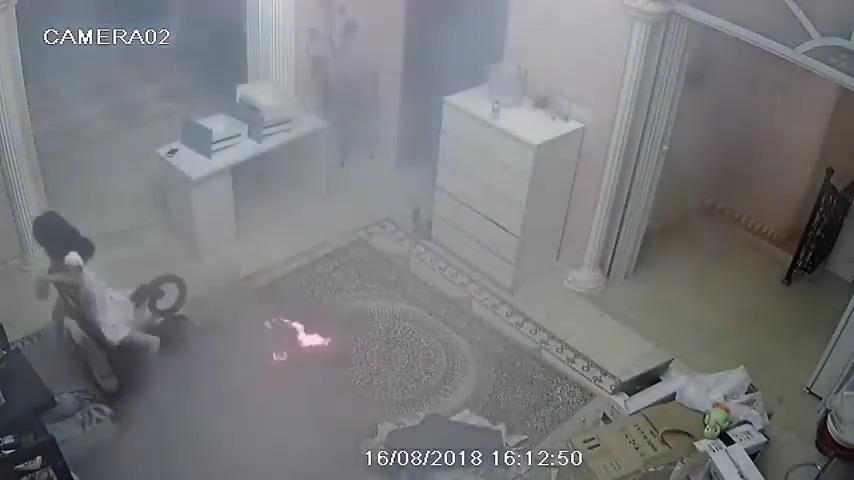fire: (265, 318, 331, 360)
